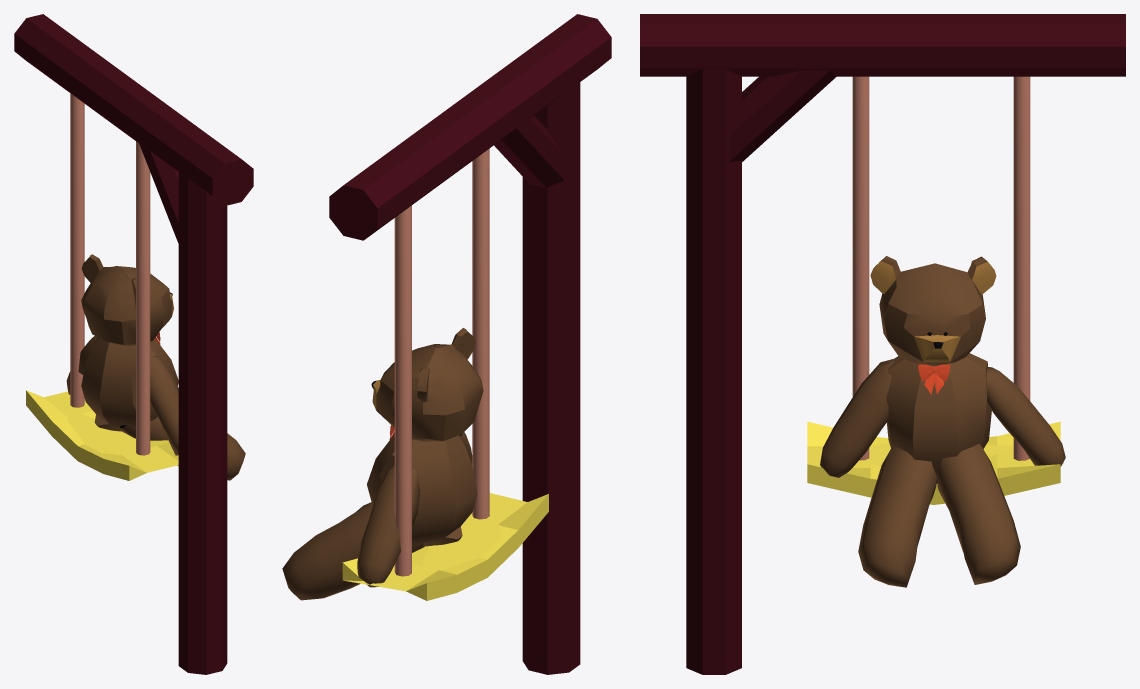
Rendered from hangman  1.fbx.
3 renders of one model, left to right at view 1: azimuth 30°, elevation 25°; view 2: azimuth 150°, elevation 25°; view 3: azimuth 270°, elevation 25°, orthographic. The views are drawn at different scales.
Visible parts, largest first — view 1: nr.1 plank middle, nr.2 upper plank, nr.6 seat, nr.7 bear head, nr.8 bear body, nr.4 rope, nr.5 rope 2, nr.9 arm right, nr.3 support up, nr.11 leg right, nr.10 arm left; view 2: nr.1 plank middle, nr.2 upper plank, nr.6 seat, nr.7 bear head, nr.8 bear body, nr.5 rope 2, nr.4 rope, nr.12 leg left, nr.10 arm left, nr.3 support up; view 3: nr.1 plank middle, nr.2 upper plank, nr.7 bear head, nr.8 bear body, nr.12 leg left, nr.11 leg right, nr.5 rope 2, nr.6 seat, nr.4 rope, nr.3 support up, nr.9 arm right, nr.10 arm left.
Boxes of the visible parts, <box> form: nr.1 plank middle: <box>178,172,227,674</box>; nr.2 upper plank: <box>14,14,253,205</box>; nr.6 seat: <box>26,390,178,480</box>; nr.7 bear head: <box>81,254,173,345</box>; nr.8 bear body: <box>81,332,178,431</box>; nr.4 rope: <box>136,141,150,455</box>; nr.5 rope 2: <box>70,93,84,407</box>; nr.9 arm right: <box>150,355,178,455</box>; nr.3 support up: <box>139,143,178,243</box>; nr.11 leg right: <box>120,417,245,480</box>; nr.10 arm left: <box>66,336,97,394</box>; nr.1 plank middle: <box>522,81,580,674</box>; nr.2 upper plank: <box>329,14,611,240</box>; nr.6 seat: <box>342,493,548,600</box>; nr.7 bear head: <box>371,328,483,441</box>; nr.8 bear body: <box>367,425,477,546</box>; nr.5 rope 2: <box>394,205,411,576</box>; nr.4 rope: <box>472,148,489,519</box>; nr.12 leg left: <box>282,502,425,600</box>; nr.10 arm left: <box>357,466,420,587</box>; nr.3 support up: <box>494,115,564,188</box>; nr.1 plank middle: <box>686,69,741,674</box>; nr.2 upper plank: <box>640,14,1125,76</box>; nr.7 bear head: <box>870,256,996,365</box>; nr.8 bear body: <box>886,353,991,482</box>; nr.12 leg left: <box>936,443,1020,584</box>; nr.11 leg right: <box>858,446,936,587</box>; nr.5 rope 2: <box>1013,76,1030,460</box>; nr.6 seat: <box>807,421,1060,504</box>; nr.4 rope: <box>852,76,869,460</box>; nr.3 support up: <box>729,70,836,161</box>; nr.9 arm right: <box>820,358,895,477</box>; nr.10 arm left: <box>986,367,1065,466</box>.
Size of the model in its own units: 261 by 883 by 604.
